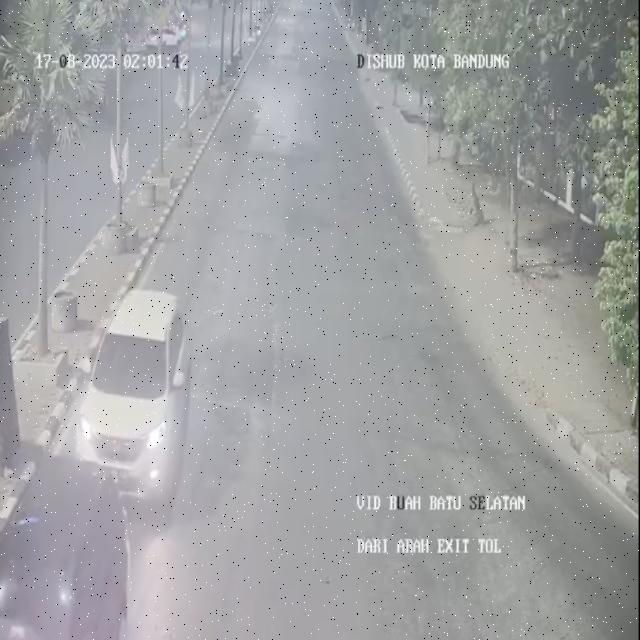cars: (77, 281, 194, 505), (0, 436, 132, 634)
